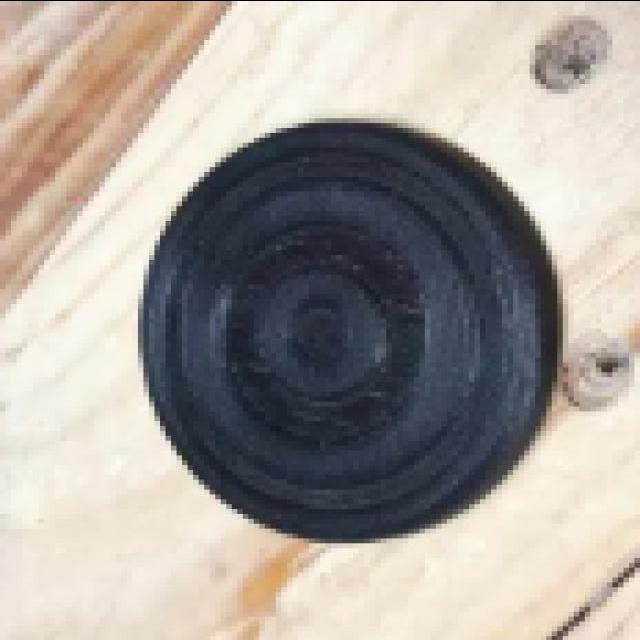chip: (142, 124, 561, 544)
